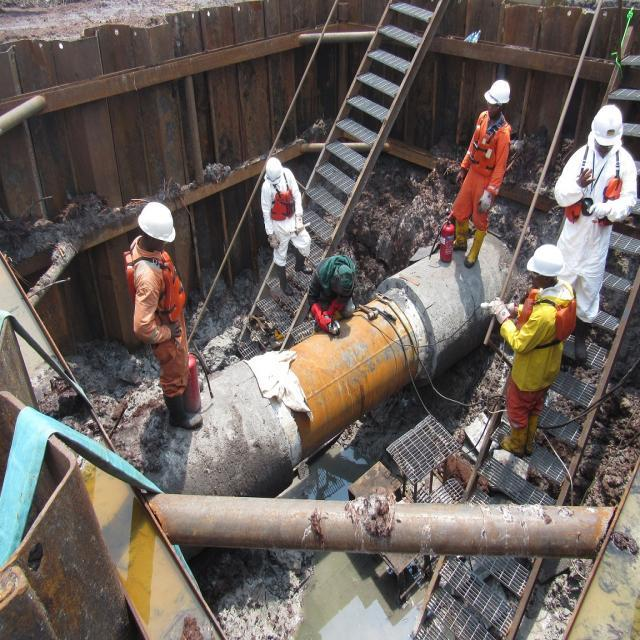gas: (150, 494, 611, 557)
